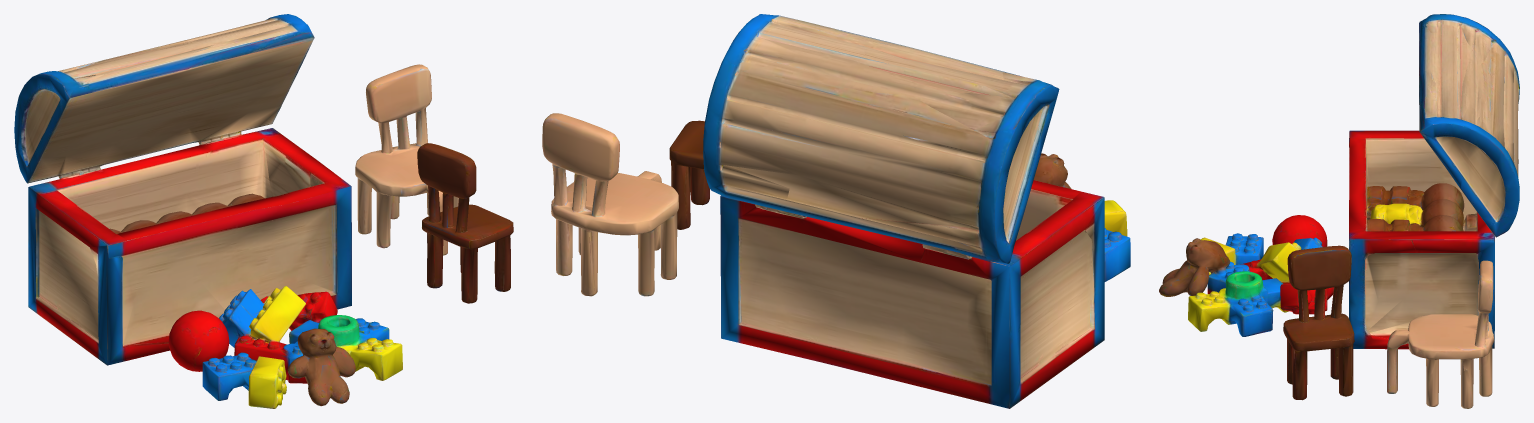
Rendered from toychest.glb.
3 views of the same model, side by side, from view 1: azimuth 30°, elevation 25°; view 2: azimuth 150°, elevation 25°; view 3: azimuth 270°, elevation 25° (orthographic). The views are drawn at different scales.
Parts seen in each view (by area): view 1: Mesh_0; view 2: Mesh_0; view 3: Mesh_0.
Boxes of the visible parts, bbox=[...] form: Mesh_0: bbox=[14, 14, 513, 408]; Mesh_0: bbox=[542, 14, 1130, 408]; Mesh_0: bbox=[1159, 14, 1519, 408].
Bounding box in the file's own units: 1.91 × 1.14 × 1.65.
Materials: 1 (1 with a texture image).
